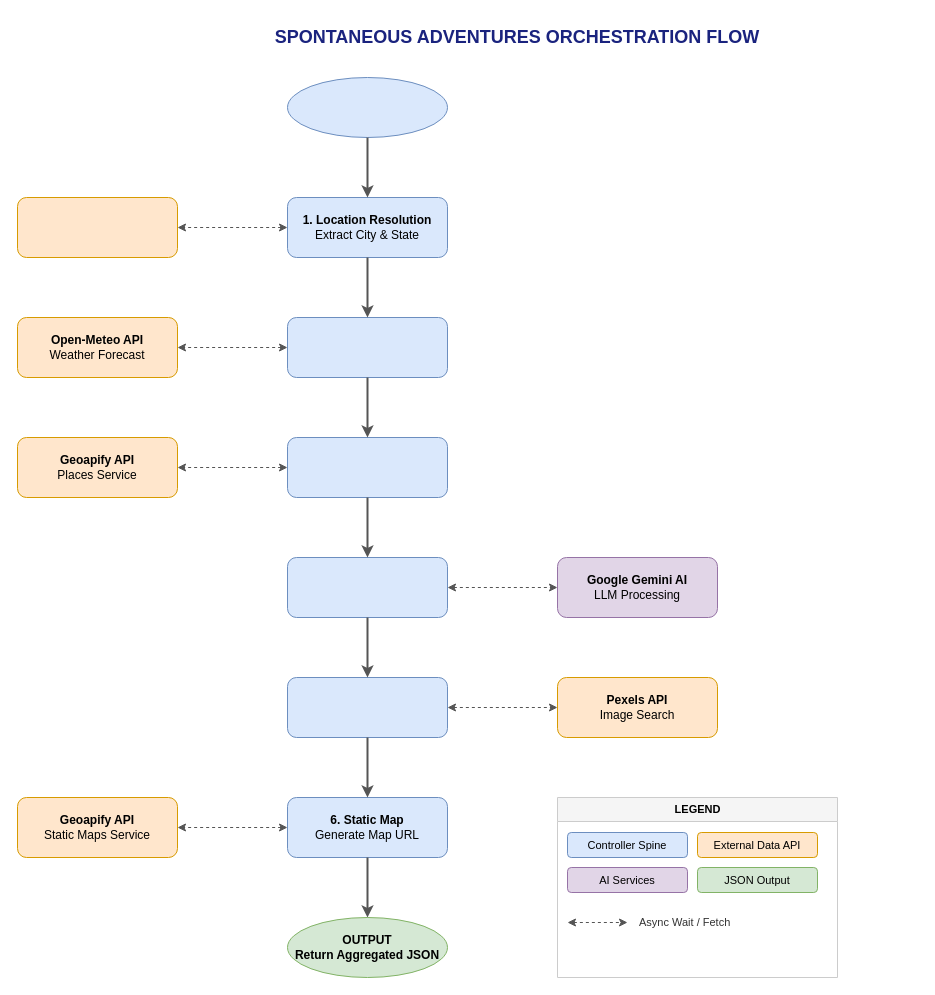
Image size: 935x995. Some labels were removed from this diagram. Here are the shapes that lost their labels. From the top down, the centre of each, then its label:
At pixel 367 107: "START GET /spontaneous ?lat=...&lon=...".
At pixel 97 227: "Geoapify API Reverse Geocoding".
At pixel 367 347: "2. Weather Info Fetch Conditions".
At pixel 367 467: "3. Nearby Places Search 20km Radius".
At pixel 367 587: "4. AI Itinerary Generate Suggestions".
At pixel 367 707: "5. Media Fetching Promise.all(images)".
